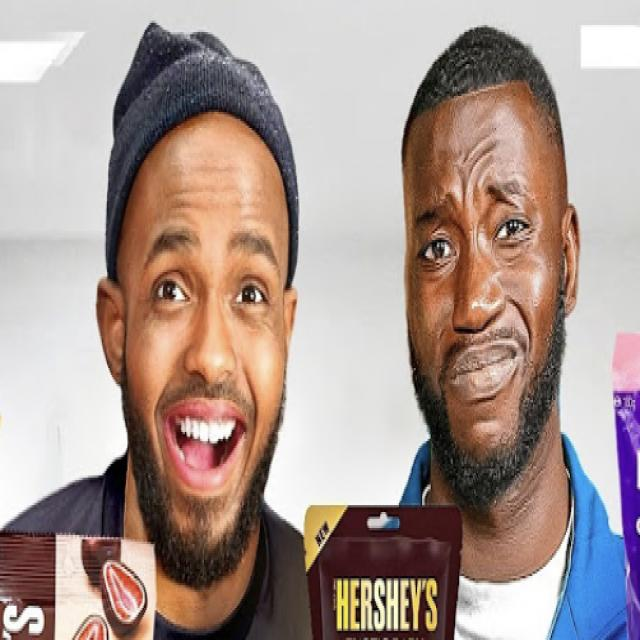happy: (102, 14, 290, 584)
